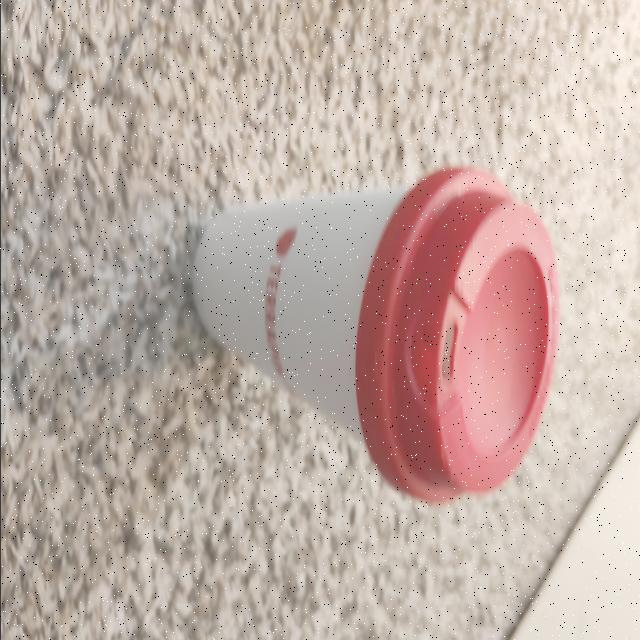mug: (190, 179, 548, 493)
